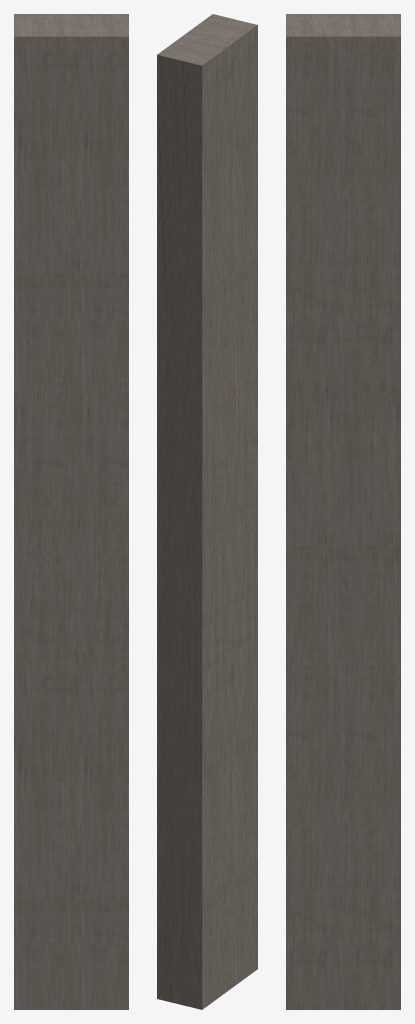
The model's file is wall11_3.obj.
3 views of the same model, side by side, from view 1: azimuth 90°, elevation 25°; view 2: azimuth 150°, elevation 25°; view 3: azimuth 270°, elevation 25° (orthographic). The views are drawn at different scales.
Parts seen in each view (by area): view 1: wall.011_3; view 2: wall.011_3; view 3: wall.011_3.
Boxes of the visible parts, x1,y1,x2,y2 form: wall.011_3: [14, 14, 128, 1009]; wall.011_3: [157, 14, 257, 1009]; wall.011_3: [286, 14, 400, 1009].
Bounding box in the file's own units: 0.05 × 1 × 0.107.
